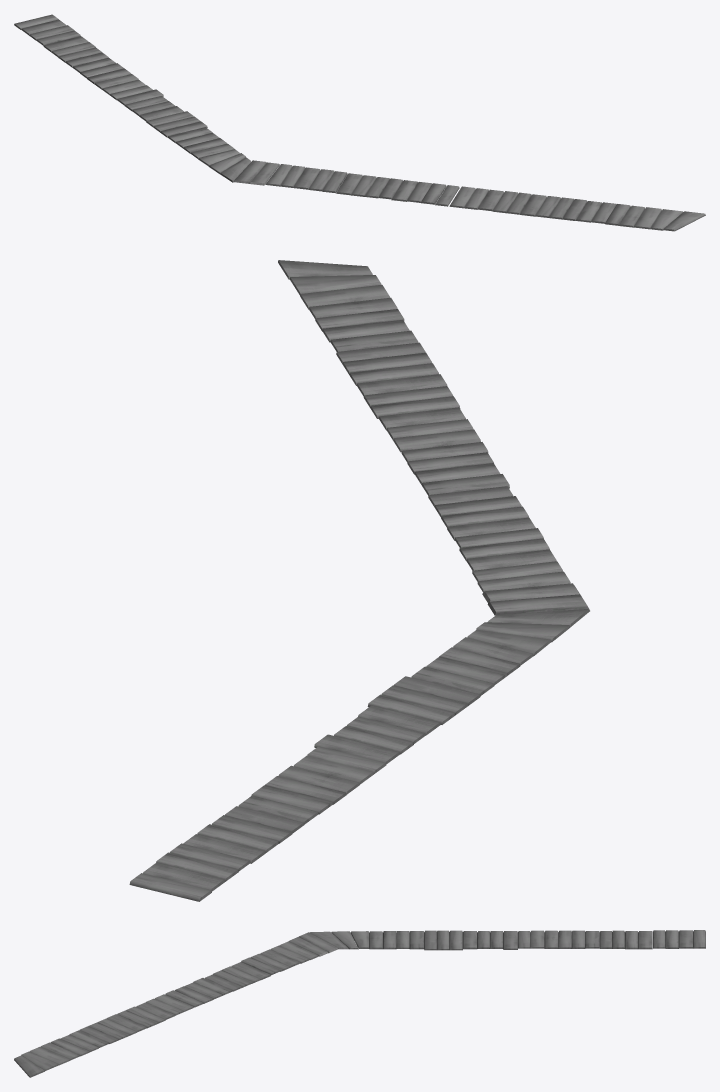
The model's file is SM_ENV_LKNVLD_Ground_Right_trim_Wood_A.FBX.
The picture shows the model from 3 angles, top to bottom: view 1: azimuth 30°, elevation 25°; view 2: azimuth 150°, elevation 25°; view 3: azimuth 270°, elevation 25°; orthographic projection. The views are drawn at different scales.
Visible parts, largest first — view 1: SM_ENV_LKNVLD_Ground_Right_trim_Wood_A; view 2: SM_ENV_LKNVLD_Ground_Right_trim_Wood_A; view 3: SM_ENV_LKNVLD_Ground_Right_trim_Wood_A.
Boxes of the visible parts, bbox=[...] form: SM_ENV_LKNVLD_Ground_Right_trim_Wood_A: bbox=[14, 14, 705, 231]; SM_ENV_LKNVLD_Ground_Right_trim_Wood_A: bbox=[129, 260, 589, 901]; SM_ENV_LKNVLD_Ground_Right_trim_Wood_A: bbox=[14, 930, 705, 1077].
Size of the model in its own units: 1008 by 7.07 by 2022.
